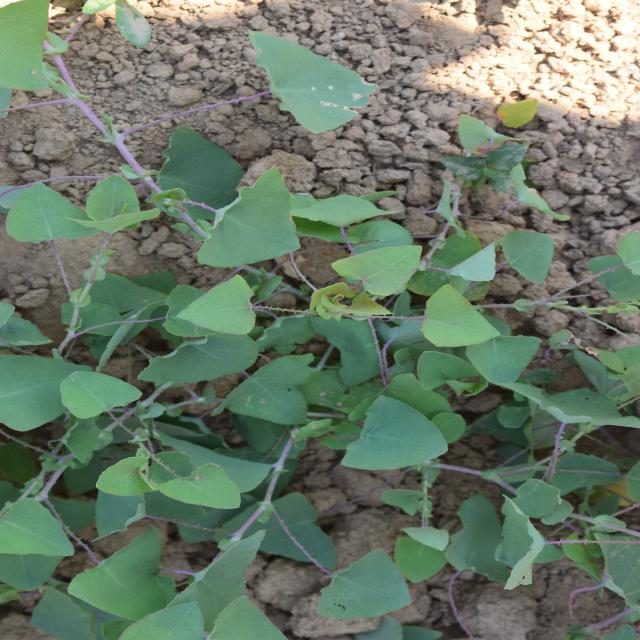Asiatic_Smartweed: (236, 177, 418, 562), (0, 27, 168, 383), (362, 25, 498, 303), (512, 245, 621, 391)
